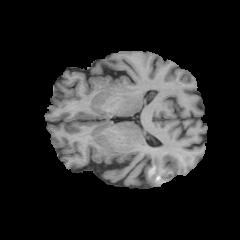glioma: (144, 155, 177, 186)
